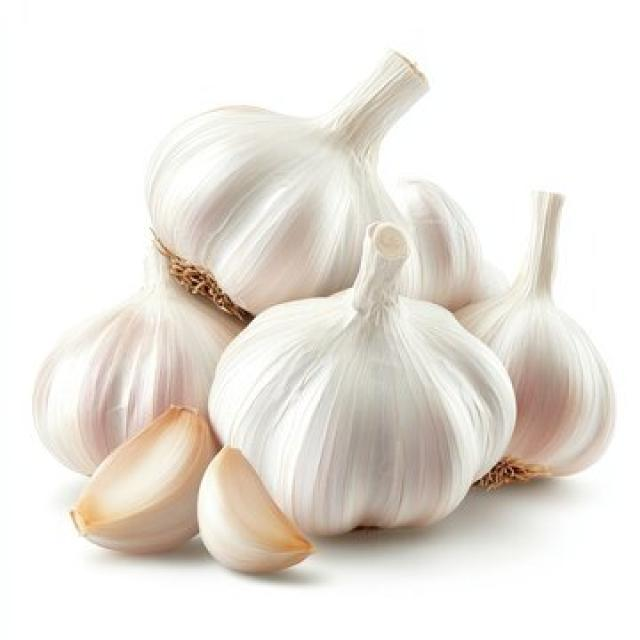Garlic: (205, 219, 518, 537), (142, 48, 430, 320), (30, 234, 244, 476), (452, 188, 615, 491), (67, 402, 217, 554), (196, 444, 314, 574), (389, 176, 482, 309)
